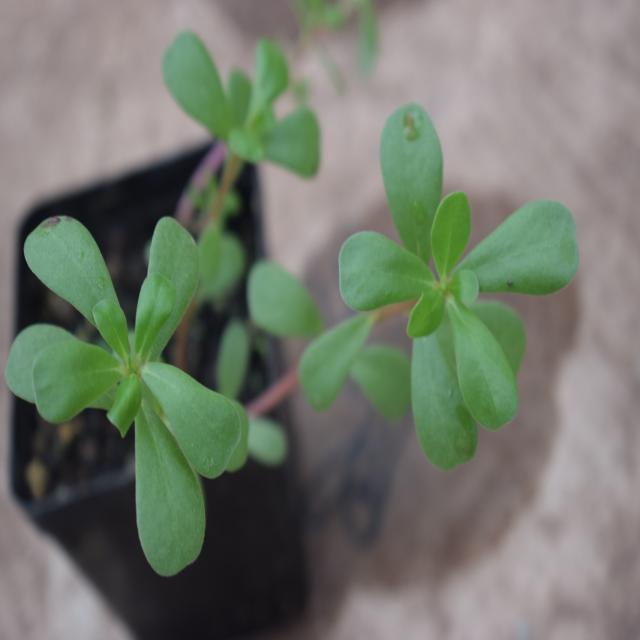purslane: (23, 81, 596, 571)
